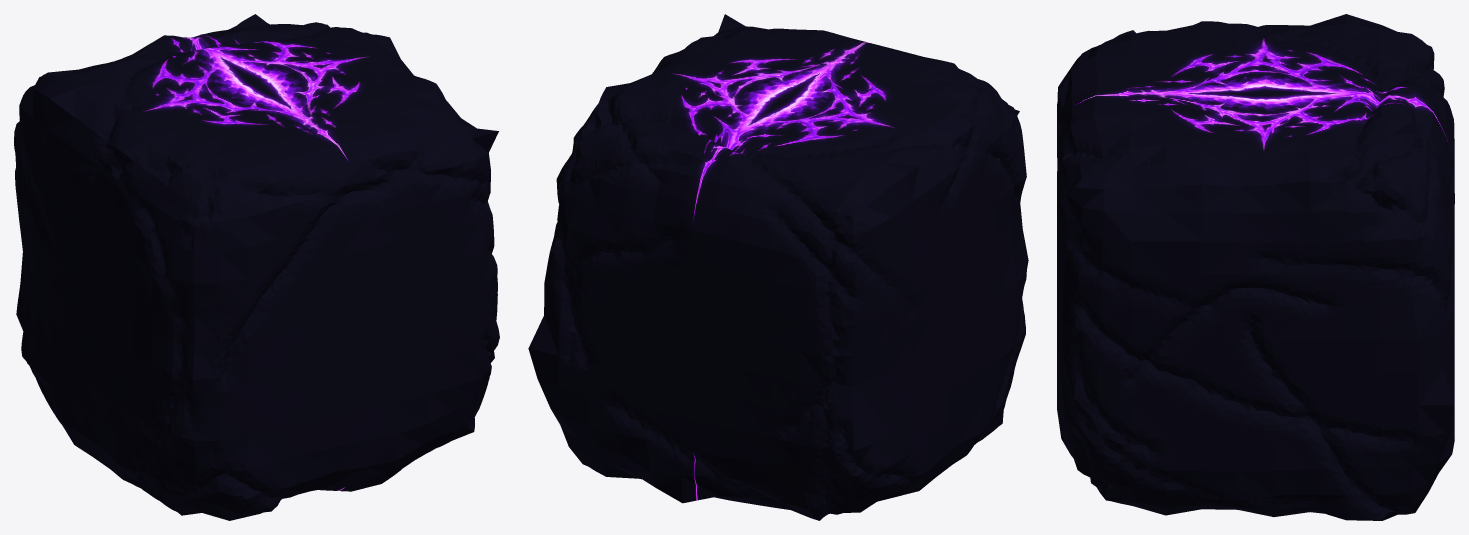
File: BlockPurple.fbx
3 views of the same model, side by side, from view 1: azimuth 30°, elevation 25°; view 2: azimuth 150°, elevation 25°; view 3: azimuth 270°, elevation 25° (orthographic). The views are drawn at different scales.
Parts seen in each view (by area): view 1: Cube; view 2: Cube; view 3: Cube.
Part boxes in pixels (x1,y1,x2,y2): Cube: [14, 14, 499, 520]; Cube: [528, 14, 1028, 520]; Cube: [1057, 14, 1454, 520].
Size of the model in its own units: 200 by 201 by 200.
